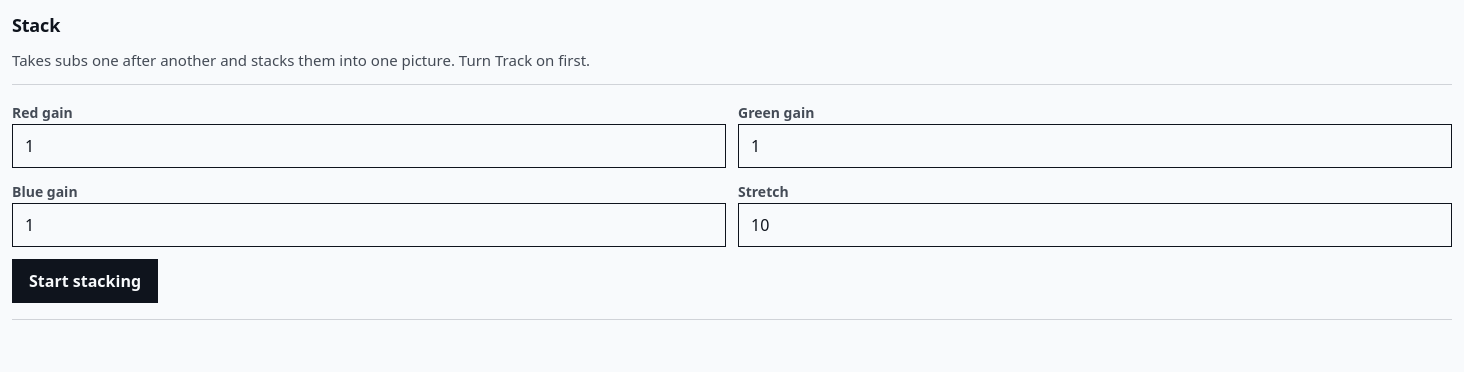
US9-S1: before the first stack › shows the refusal's exact words and calls no onChange
Click the button "Start stacking".
click(85, 281)  # box [12,259,158,303]
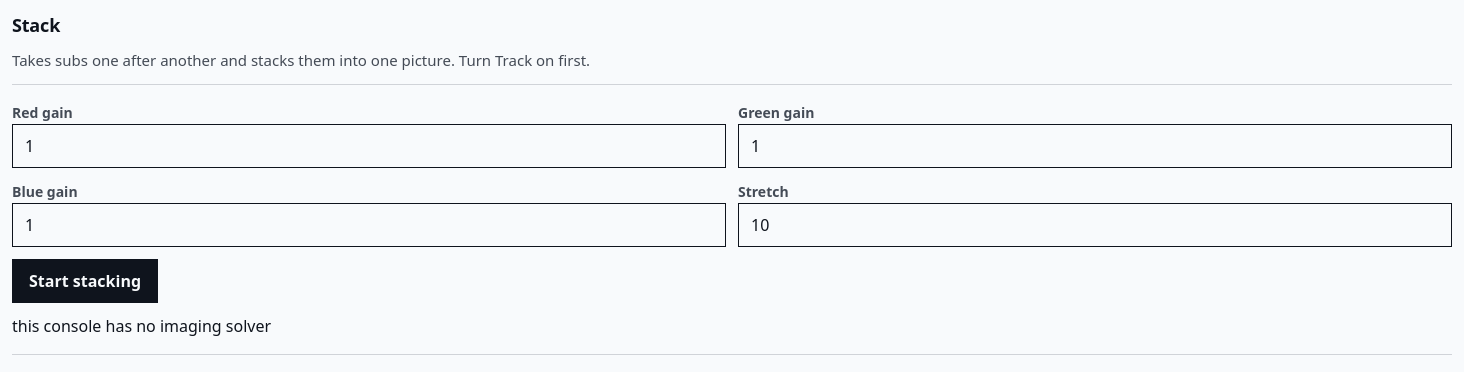
Expected: the message reads "this console has no imaging solver", [12,315,271,337]
